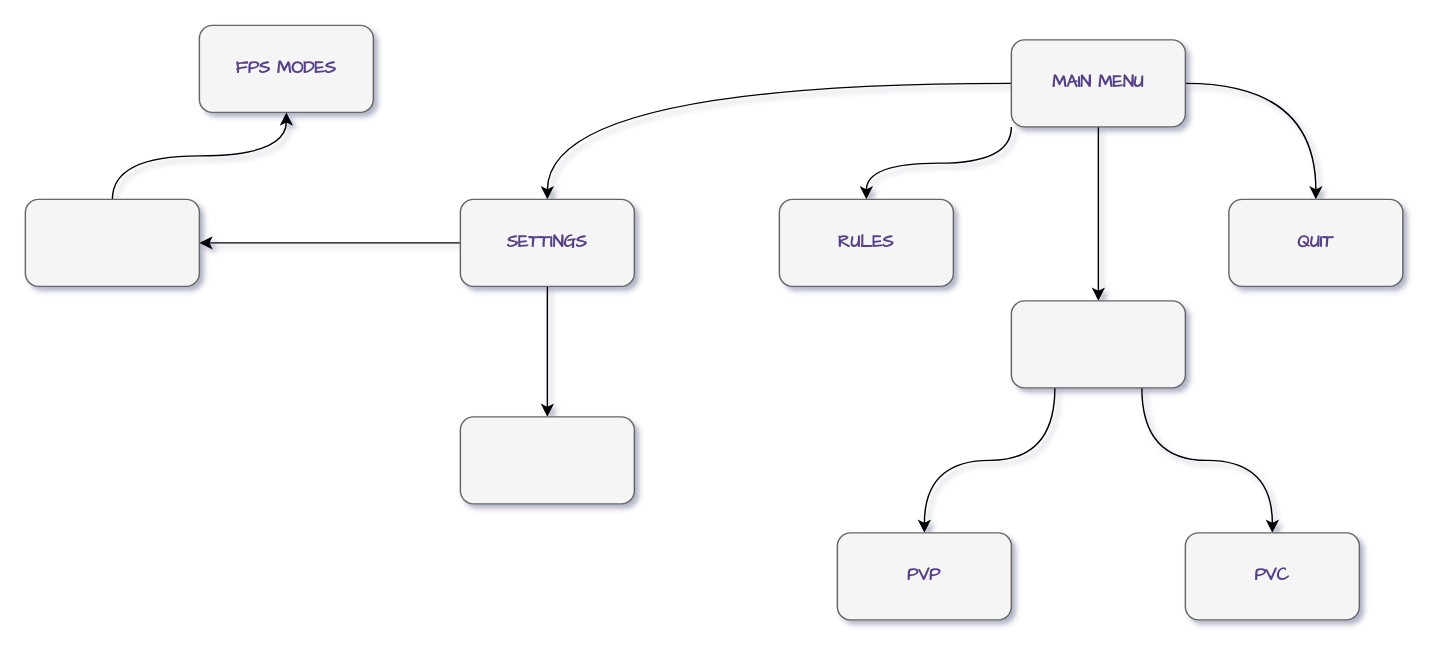
This 1437x654 diagram has some shape labels left out. Each missing label, with the centre of its shape:
"FPS COUNTER" goes at point (111, 242).
"MUSIC" goes at point (546, 459).
"PLAY" goes at point (1097, 343).
